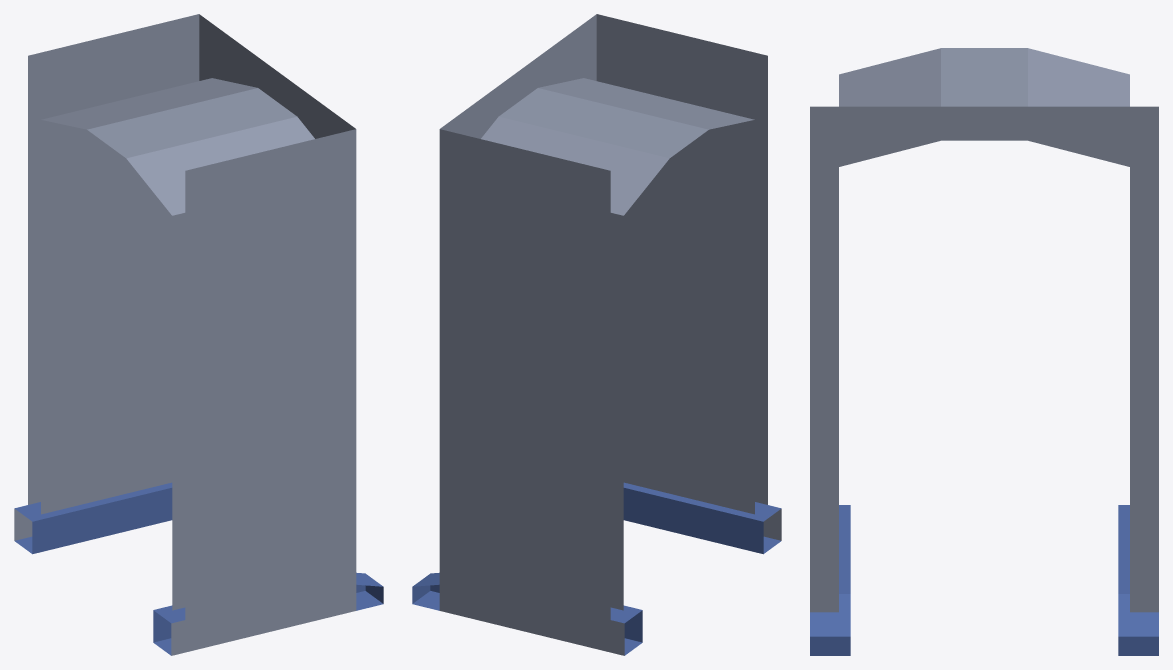
Rendered from door-optimized.fbx.
3 renders of one model, left to right at view 1: azimuth 30°, elevation 25°; view 2: azimuth 150°, elevation 25°; view 3: azimuth 270°, elevation 25°, orthographic. The views are drawn at different scales.
Parts seen in each view (by area): view 1: door-optimized; view 2: door-optimized; view 3: door-optimized.
Boxes of the visible parts, box(x1,y1,x2,y2) form: door-optimized: box(14, 14, 383, 655); door-optimized: box(412, 14, 781, 655); door-optimized: box(810, 48, 1158, 655).
Bounding box in the file's own units: 156 × 338 × 200.
